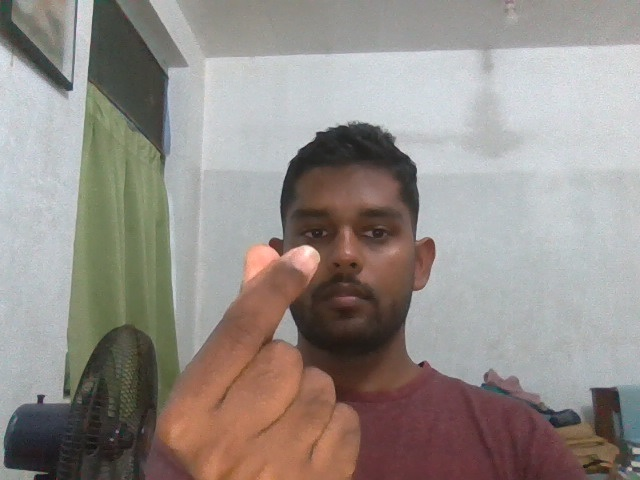iloveyou: (142, 237, 366, 480)
